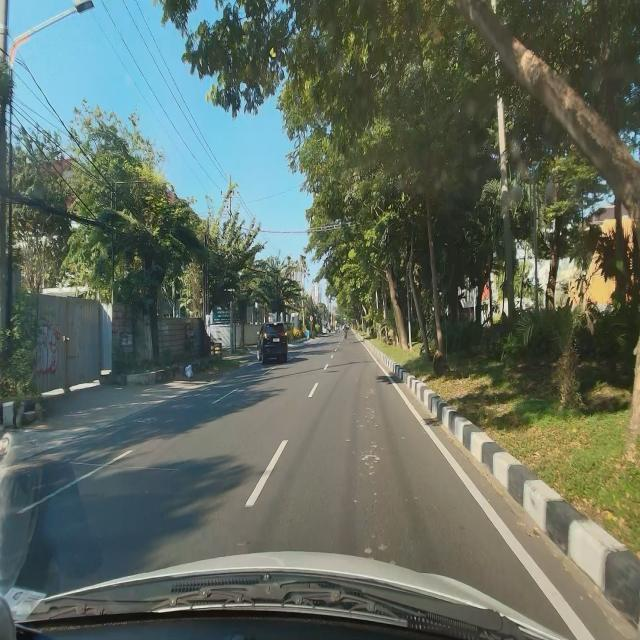car: (256, 322, 288, 364)
license-plate: (272, 338, 280, 342)
